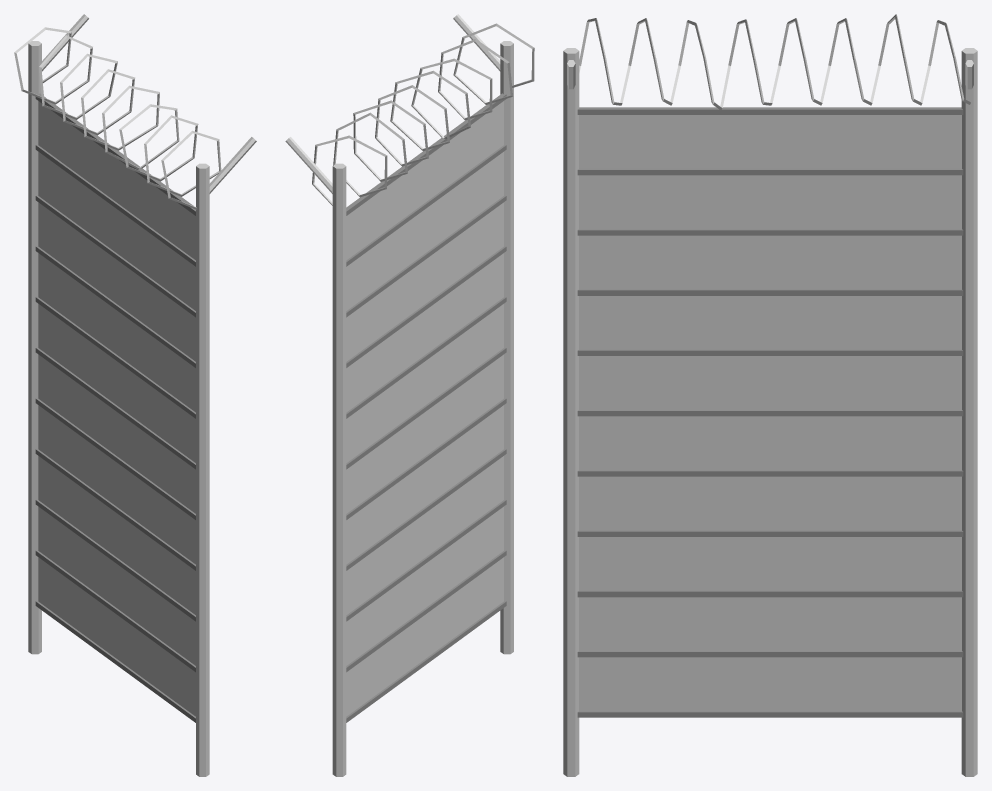
Rendered from Fence_Razor_02.FBX.
3 views of the same model, side by side, from view 1: azimuth 30°, elevation 25°; view 2: azimuth 150°, elevation 25°; view 3: azimuth 270°, elevation 25° (orthographic). The views are drawn at different scales.
Visible parts, largest first — view 1: Fence_Razor_02_Plane, Fence_Razor_02_LOD0, Fence_Razor_02_Wire_LOD0; view 2: Fence_Razor_02_Plane, Fence_Razor_02_LOD0, Fence_Razor_02_Wire_LOD0; view 3: Fence_Razor_02_Plane, Fence_Razor_02_LOD0, Fence_Razor_02_Wire_LOD0.
Boxes of the visible parts, x1,y1,x2,y2 form: Fence_Razor_02_Plane: [38, 101, 195, 716]; Fence_Razor_02_LOD0: [28, 14, 256, 776]; Fence_Razor_02_Wire_LOD0: [14, 27, 221, 209]; Fence_Razor_02_Plane: [346, 101, 503, 716]; Fence_Razor_02_LOD0: [285, 14, 513, 776]; Fence_Razor_02_Wire_LOD0: [312, 23, 534, 205]; Fence_Razor_02_Plane: [579, 115, 961, 711]; Fence_Razor_02_LOD0: [563, 48, 977, 776]; Fence_Razor_02_Wire_LOD0: [579, 14, 970, 110].
Size of what is drawn, in the model's own units: 26.63 by 186 by 91.78.
